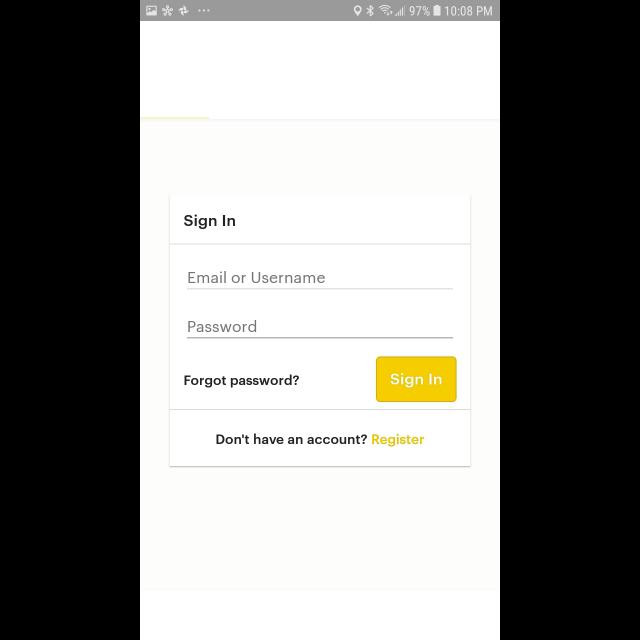input: (187, 320, 453, 340), (187, 270, 453, 290)
text: (216, 434, 424, 446), (188, 270, 326, 284), (184, 374, 300, 388), (184, 214, 236, 230), (189, 320, 257, 332)
textbutton: (376, 357, 456, 403)
uppertaskbar: (140, 1, 500, 22)
